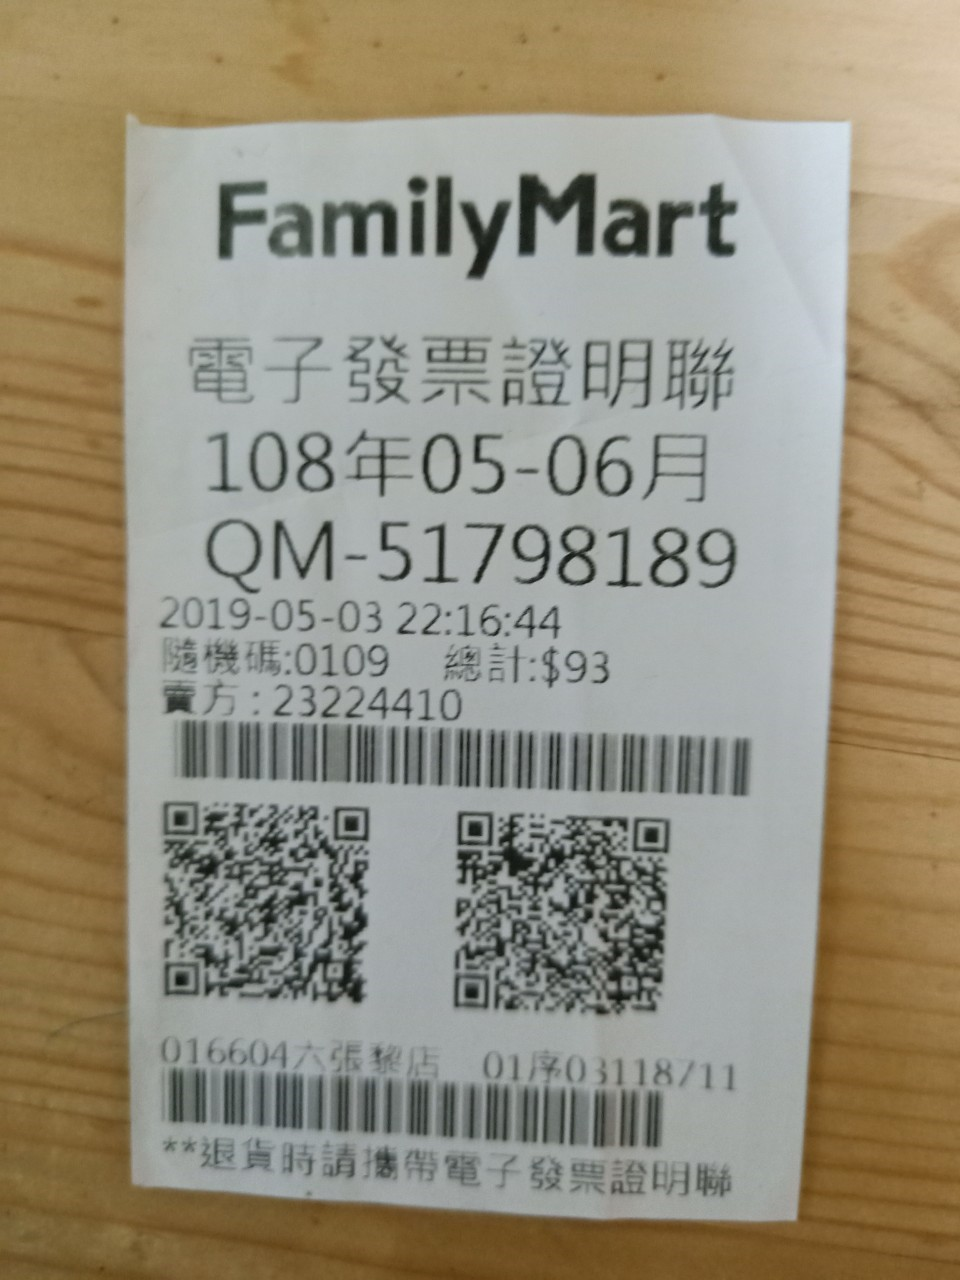Date_New: (205, 427, 713, 512)
Number_New: (376, 517, 743, 598)
